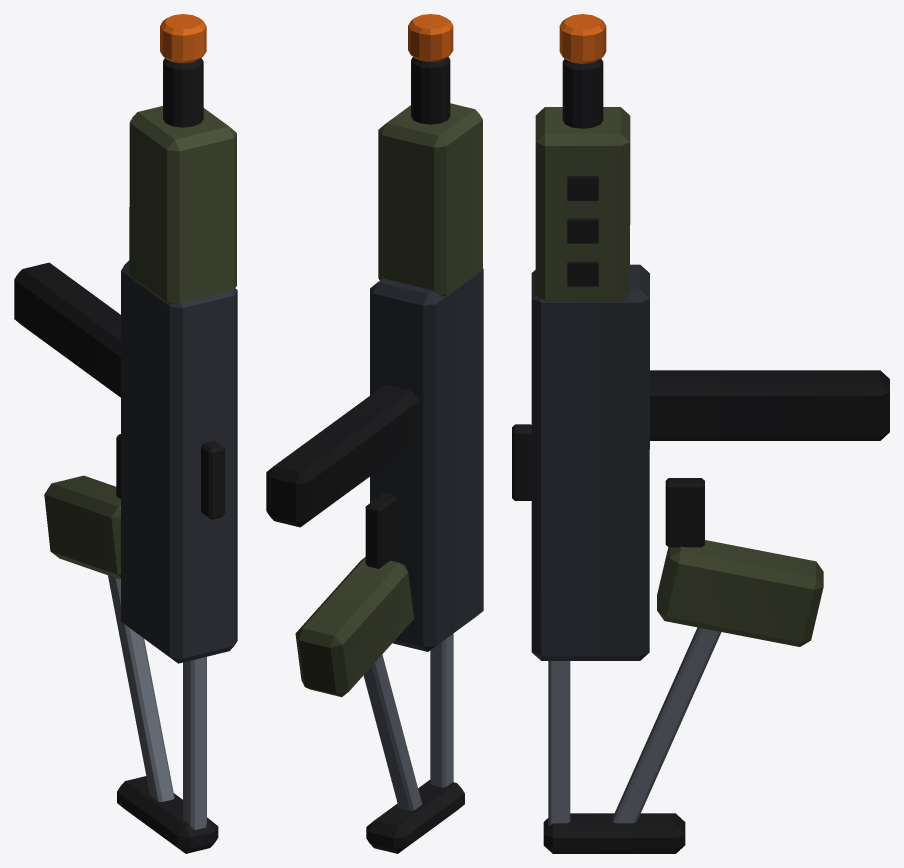
File: hornet.glb
3 views of the same model, side by side, from view 1: azimuth 30°, elevation 25°; view 2: azimuth 150°, elevation 25°; view 3: azimuth 270°, elevation 25° (orthographic). The views are drawn at different scales.
Parts seen in each view (by area): view 1: hornet; view 2: hornet; view 3: hornet.
Part boxes in pixels (x1,y1,x2,y2): hornet: (14, 14, 237, 853); hornet: (266, 14, 483, 853); hornet: (512, 14, 889, 853).
Bounding box in the file's own units: 0.0551 × 0.5789 × 0.24.
